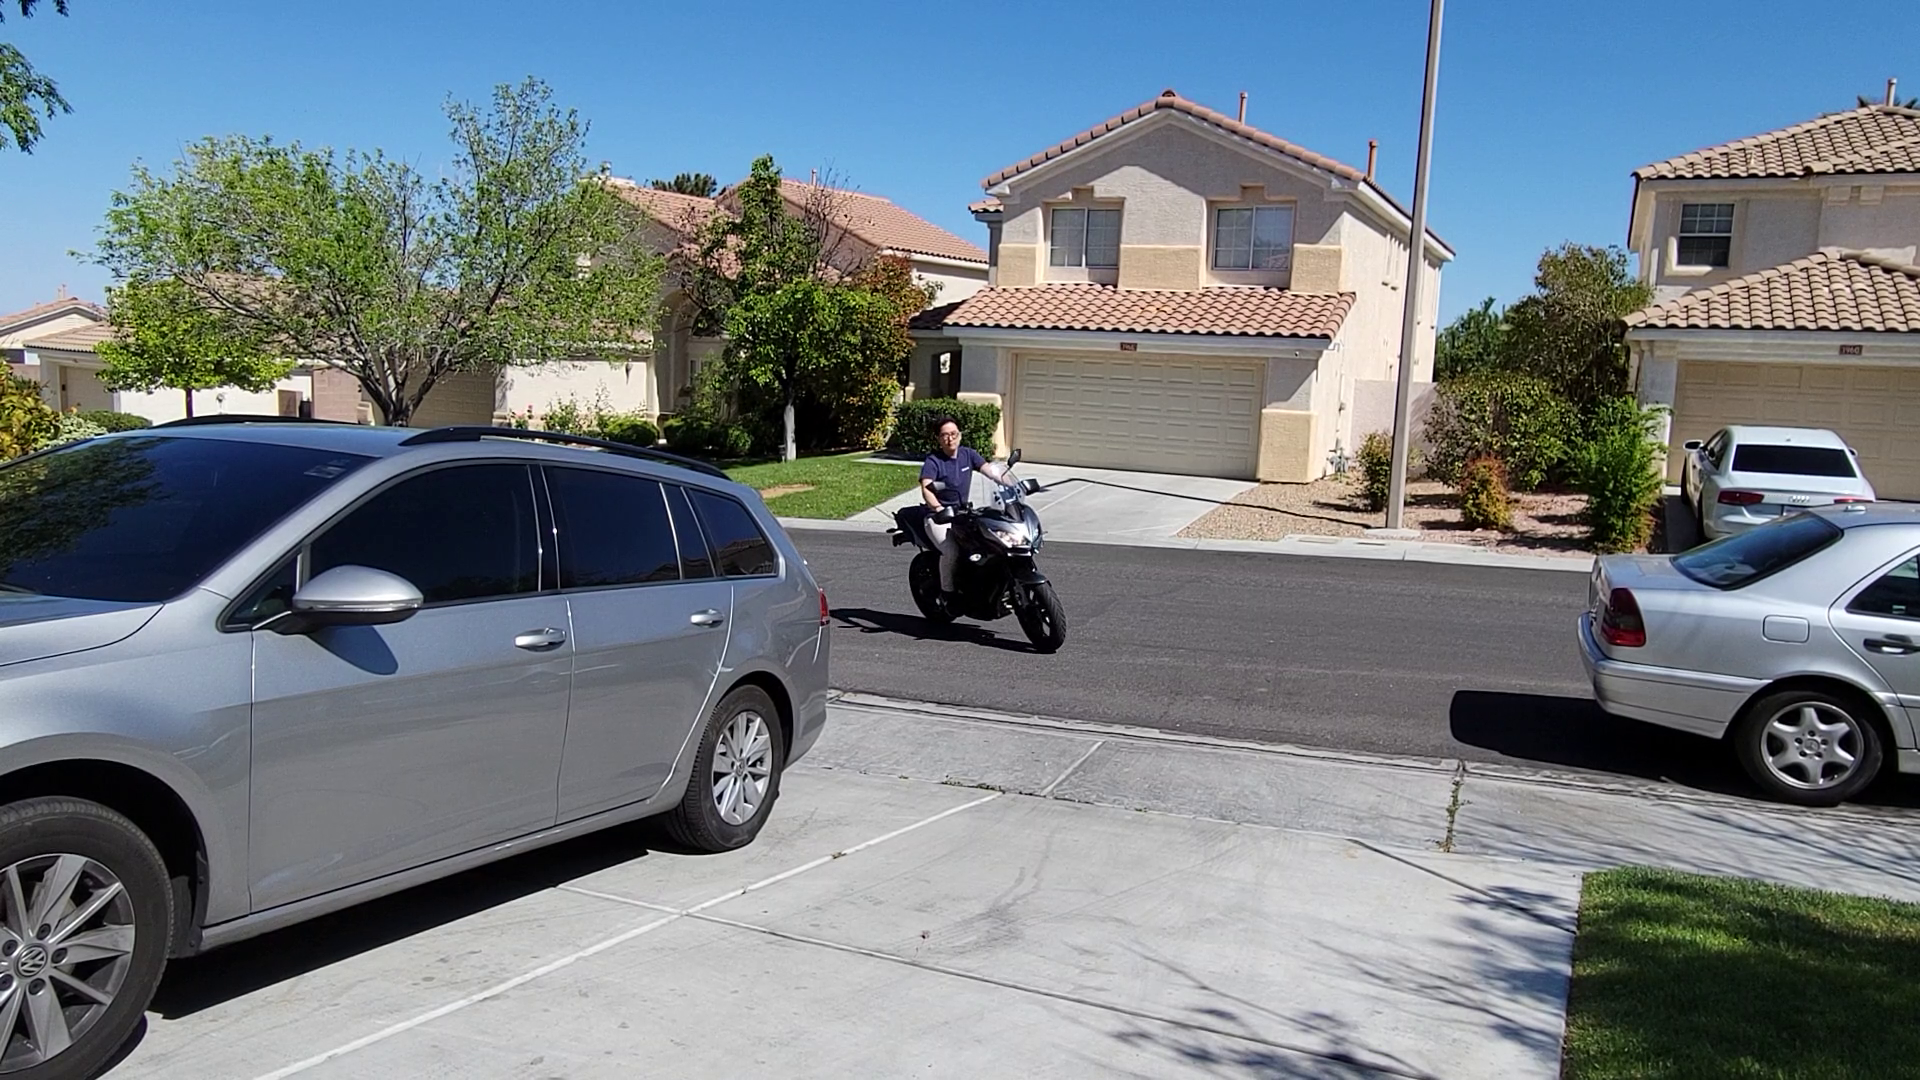my bike: (881, 405, 1069, 655)
